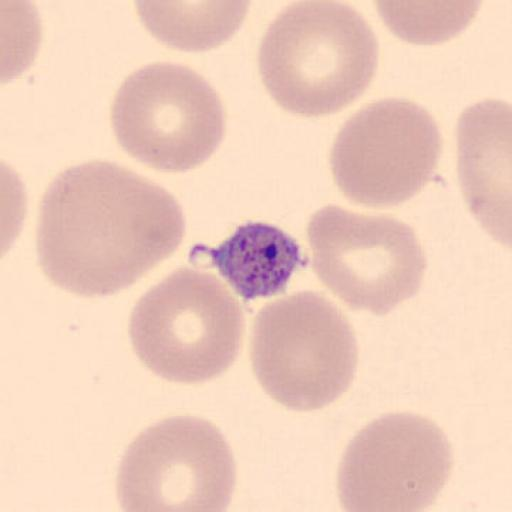Platelet: (211, 217, 311, 302)
RBC: (35, 158, 188, 298), (254, 0, 381, 118), (126, 266, 247, 386), (246, 288, 360, 414), (306, 203, 429, 317), (109, 59, 228, 174), (328, 95, 444, 210), (114, 413, 239, 512), (335, 410, 456, 511), (453, 95, 512, 250), (132, 0, 253, 54), (370, 0, 486, 47), (2, 0, 44, 86), (0, 156, 30, 262)
